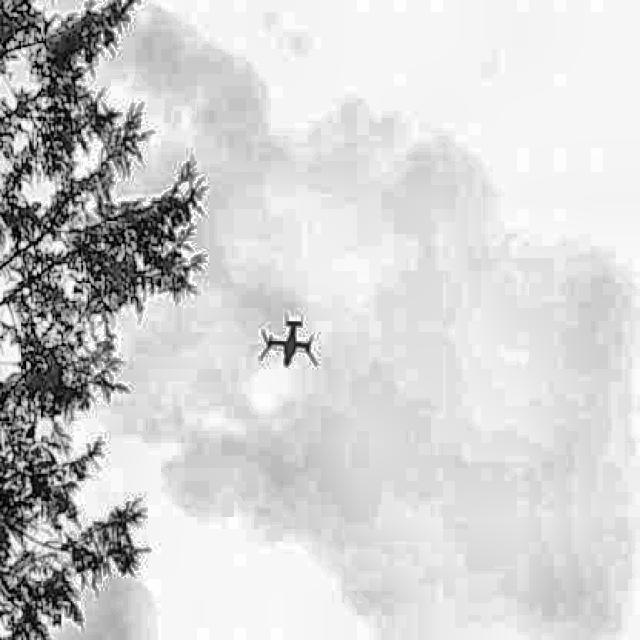V22: (258, 313, 318, 367)
